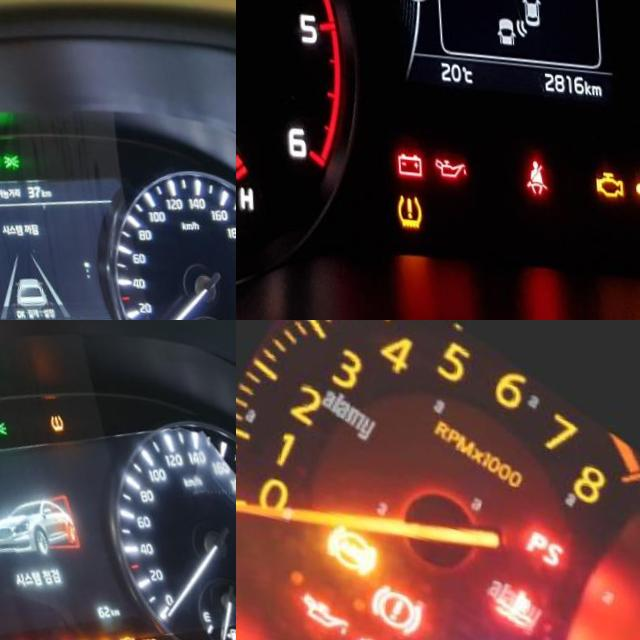Engine cooling system: (485, 566, 543, 623)
SideLamp: (0, 145, 16, 161)
